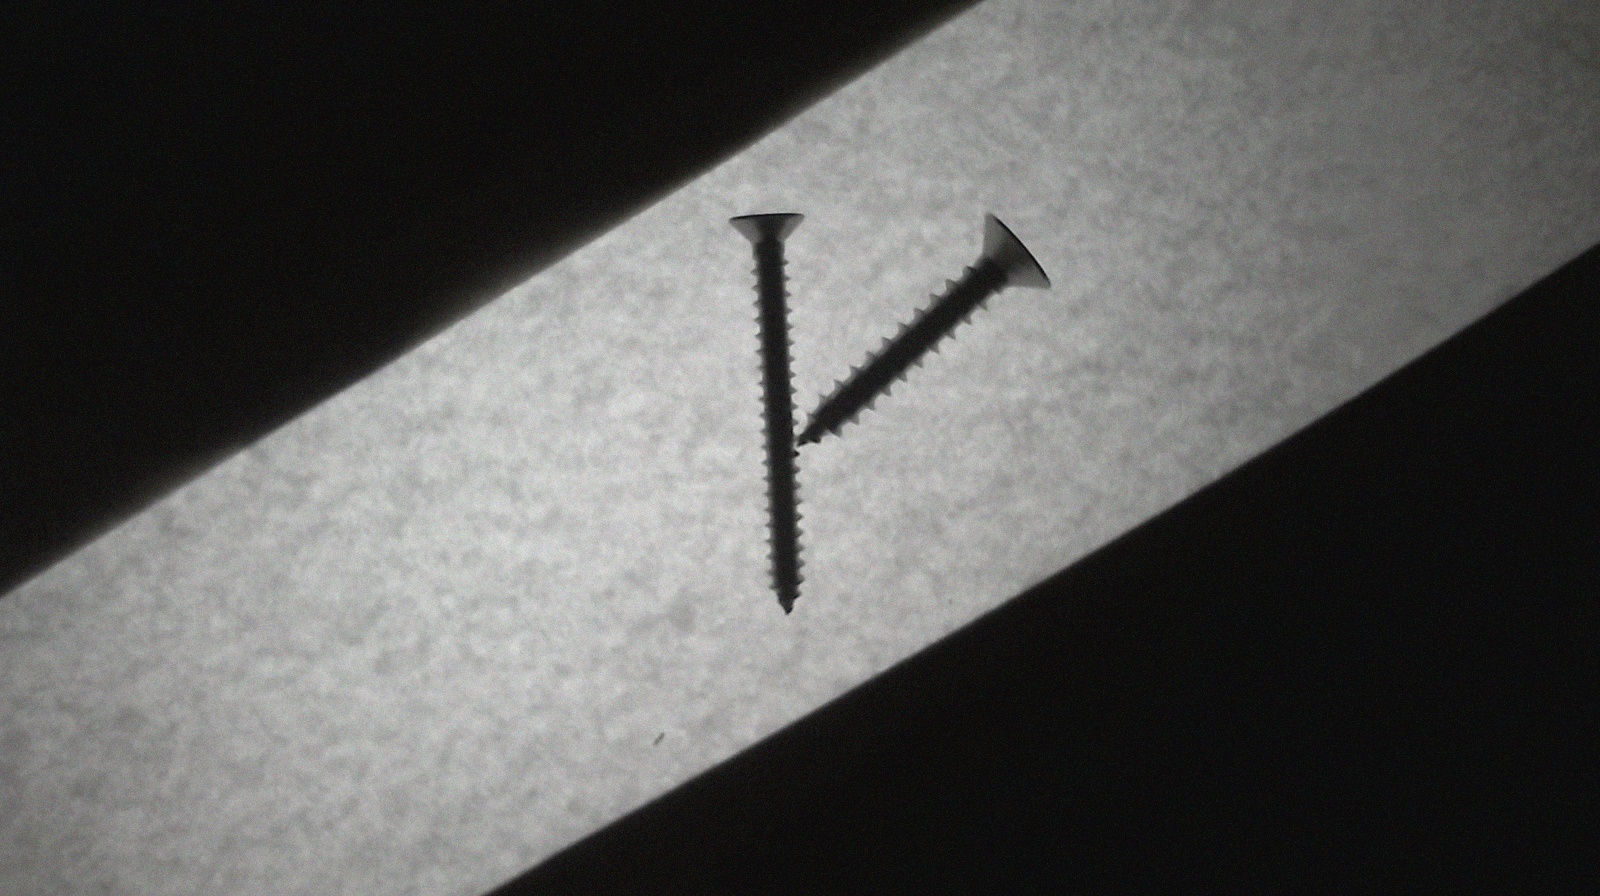S001: (796, 211, 1062, 454)
S002: (715, 208, 807, 620)
